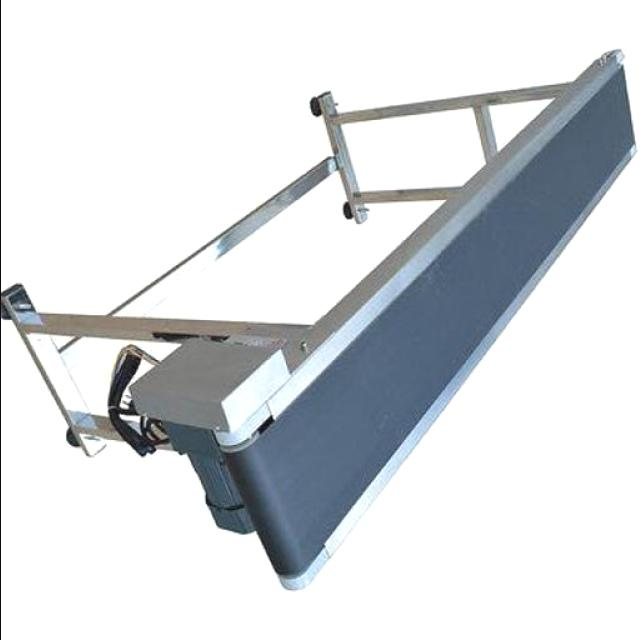conveyor: (209, 48, 639, 590)
